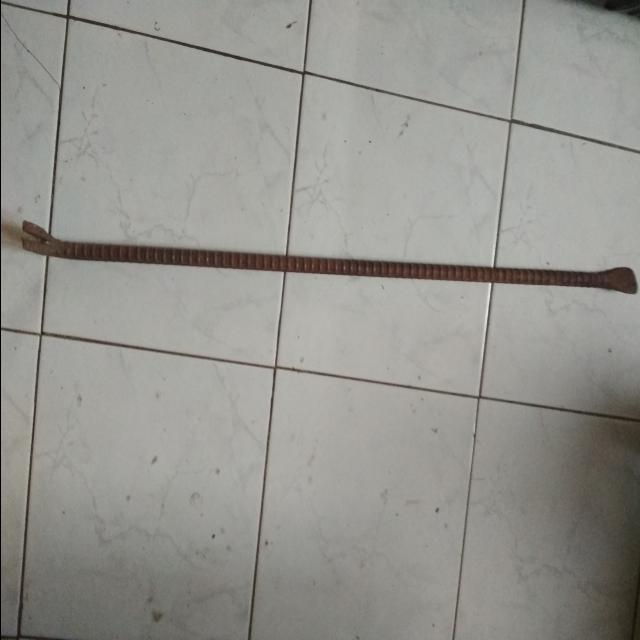Linggis: (21, 215, 637, 295)
